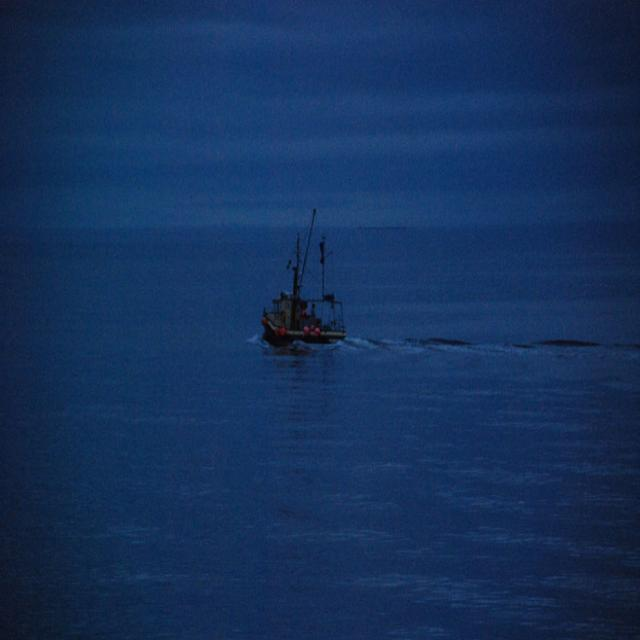Boat: (233, 198, 355, 363)
